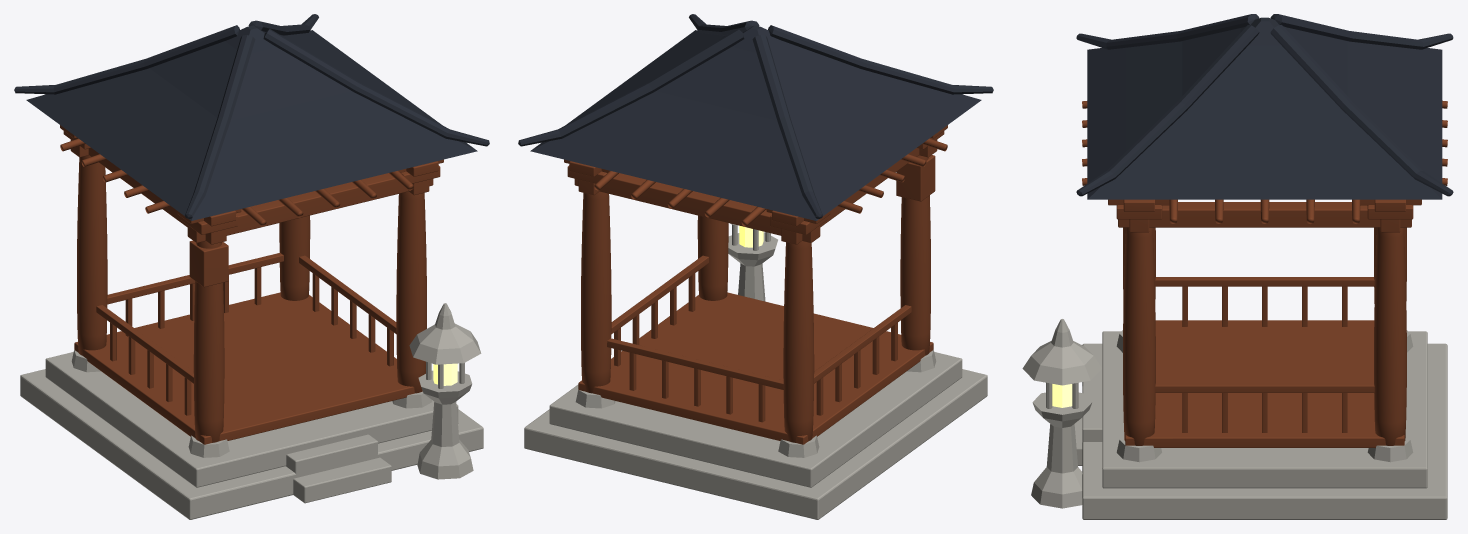
The model's file is webtoon-moonlight-hanok-lotus-lantern-pavilion-v16.glb.
3 renders of one model, left to right at view 1: azimuth 30°, elevation 25°; view 2: azimuth 150°, elevation 25°; view 3: azimuth 270°, elevation 25°, orthographic. The views are drawn at different scales.
Parts seen in each view (by area): view 1: HanokZelkovaStructure.001, HanokGiwaRoof.001, HanokGraniteAndLantern.001; view 2: HanokZelkovaStructure.001, HanokGiwaRoof.001, HanokGraniteAndLantern.001; view 3: HanokGiwaRoof.001, HanokZelkovaStructure.001, HanokGraniteAndLantern.001.
Part boxes in pixels (<box>): HanokZelkovaStructure.001: <box>60,125,443,444</box>; HanokGiwaRoof.001: <box>14,14,489,220</box>; HanokGraniteAndLantern.001: <box>20,303,483,519</box>; HanokZelkovaStructure.001: <box>564,125,947,444</box>; HanokGiwaRoof.001: <box>518,14,993,220</box>; HanokGraniteAndLantern.001: <box>524,223,987,519</box>; HanokGiwaRoof.001: <box>1076,14,1453,199</box>; HanokZelkovaStructure.001: <box>1082,100,1447,447</box>; HanokGraniteAndLantern.001: <box>1022,319,1447,519</box>.
Bounding box in the file's own units: 2.64 × 3.28 × 3.02.
